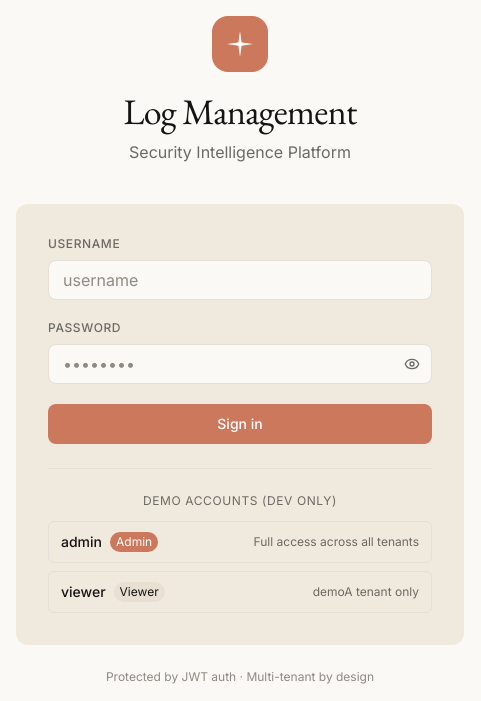
Test case: Login Page › fills demo admin account on click
The width and height of the screenshot is (481, 701).
# The demo account button is a button with the username text.
Click the button "admin Admin Full access across all tenants" at (82, 541), box [48,520,432,562]
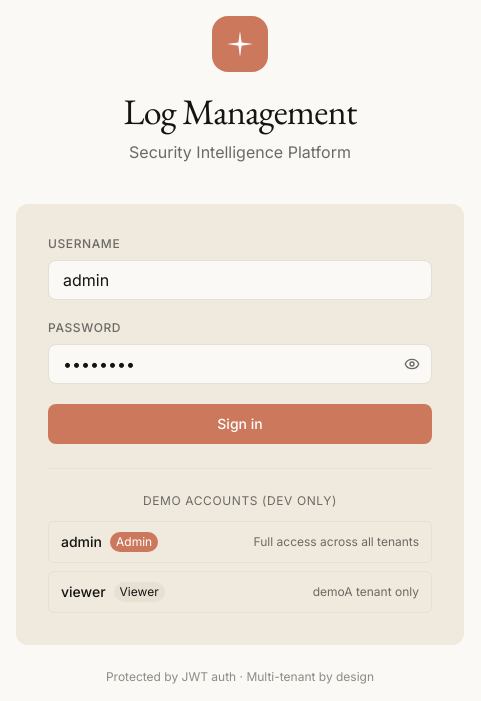
Check: the field with placeholder "username" holds "admin", box [48,260,432,300]
Check: the password field with placeholder "••••••••" holds "admin123", box [48,344,432,384]
